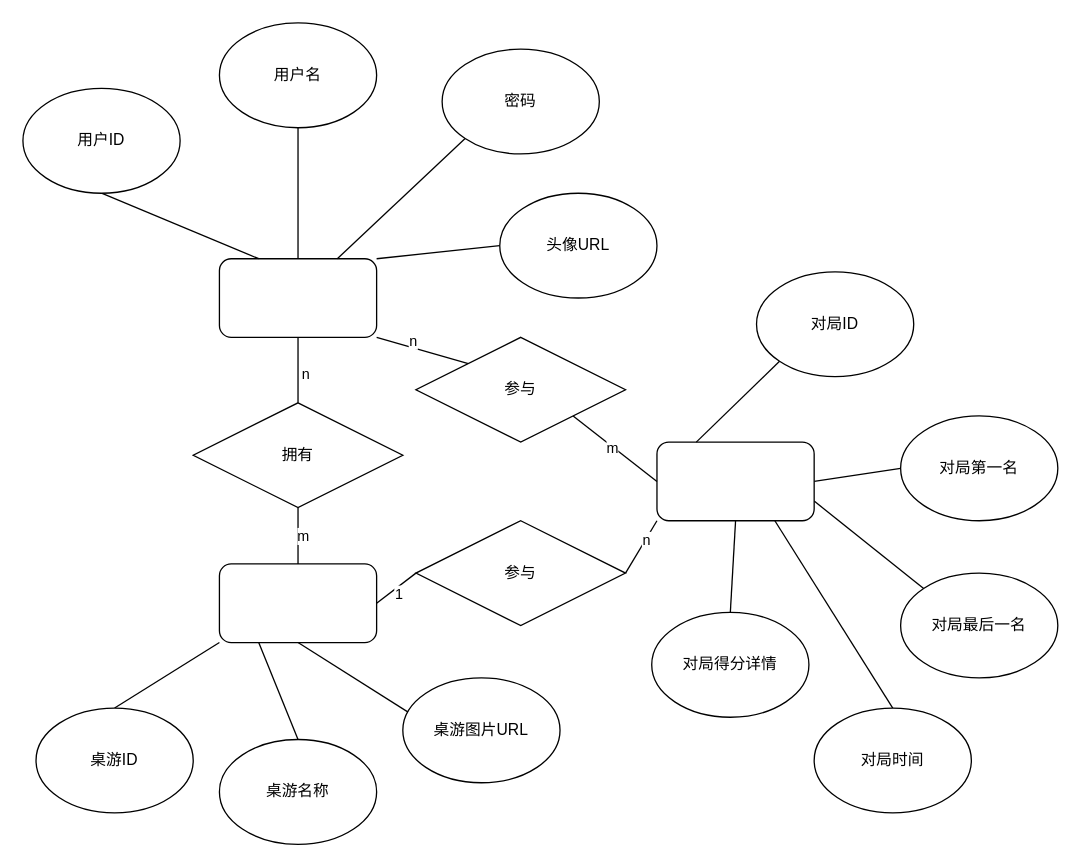
Image size: 1081x867. Some labels were removed from this diagram. The centre of each missing label's shape, as x and y in pixels:
"对局" belongs at (735,481).
"桌游" belongs at (297,603).
"用户" belongs at (297,297).
